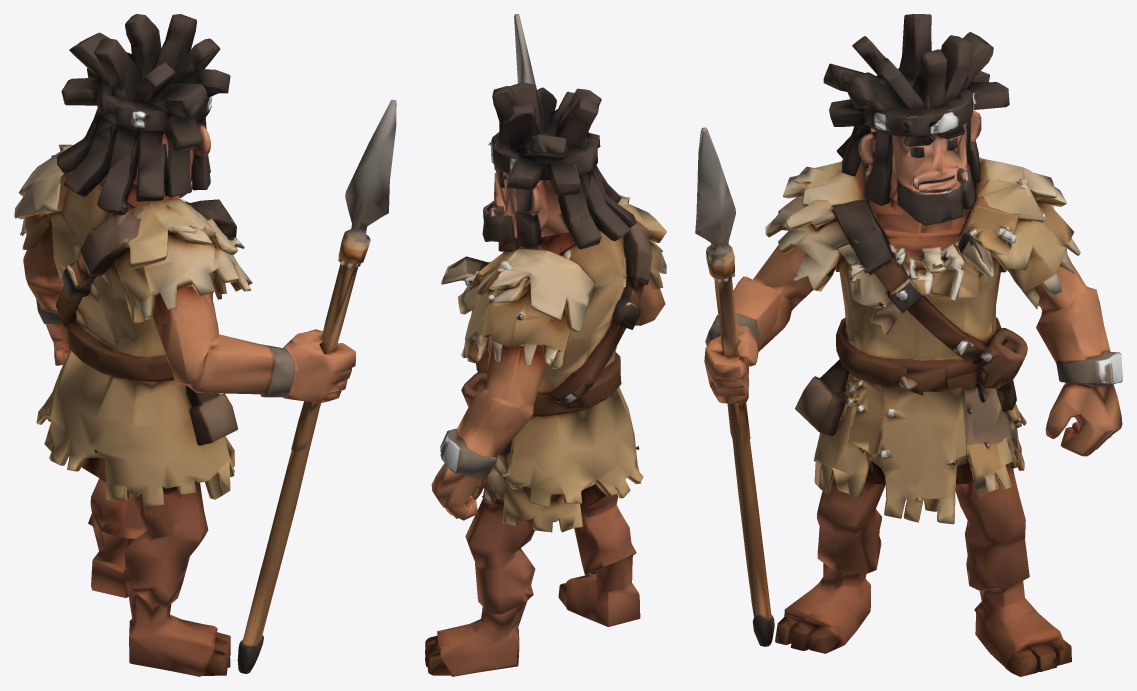
Rendered from prehistoric-man.glb.
3 renders of one model, left to right at view 1: azimuth 30°, elevation 25°; view 2: azimuth 150°, elevation 25°; view 3: azimuth 270°, elevation 25°, orthographic. The views are drawn at different scales.
Visible parts, largest first — view 1: tripo_node_be61a913-7c37-4ae3-9526-18b4721c74a3; view 2: tripo_node_be61a913-7c37-4ae3-9526-18b4721c74a3; view 3: tripo_node_be61a913-7c37-4ae3-9526-18b4721c74a3.
Boxes of the visible parts, box(x1,y1,x2,y2) form: tripo_node_be61a913-7c37-4ae3-9526-18b4721c74a3: box(14, 14, 396, 676); tripo_node_be61a913-7c37-4ae3-9526-18b4721c74a3: box(425, 14, 666, 676); tripo_node_be61a913-7c37-4ae3-9526-18b4721c74a3: box(695, 14, 1122, 676).
Size of the model in its own units: 0.4011 by 0.9785 by 0.624.
1 material, 1 textured.
